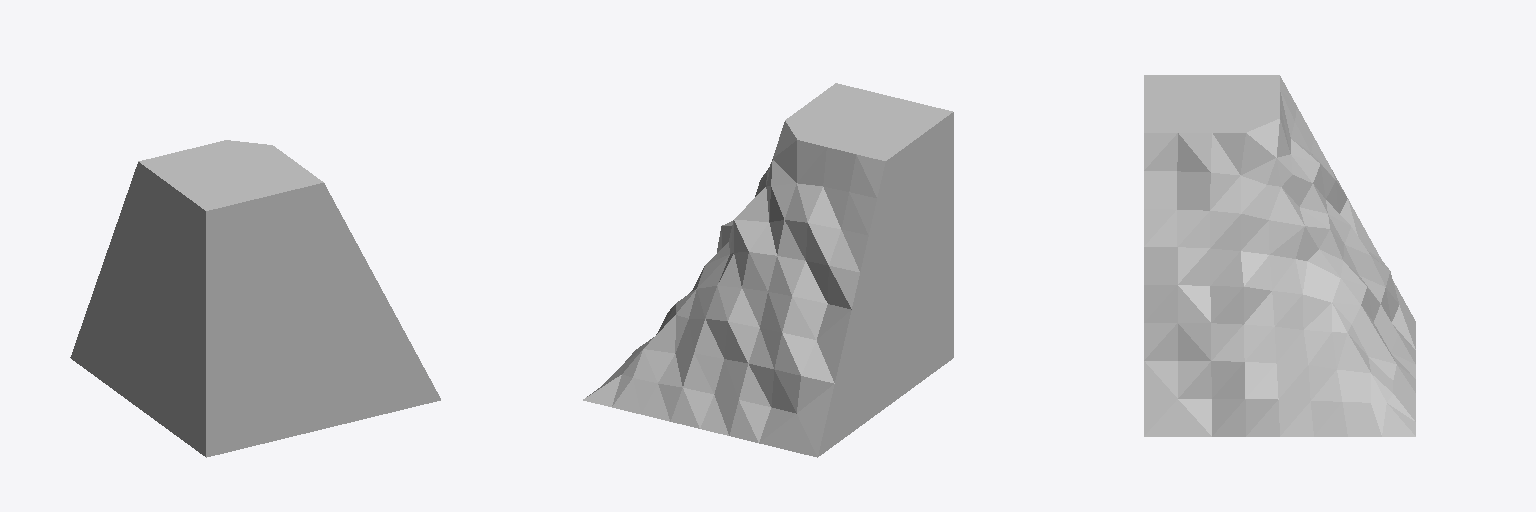
File: single_edge_270.obj
3 renders of one model, left to right at view 1: azimuth 30°, elevation 25°; view 2: azimuth 150°, elevation 25°; view 3: azimuth 270°, elevation 25°, orthographic.
Visible parts, largest first — view 1: Cube.001_Cube.005; view 2: Cube.001_Cube.005; view 3: Cube.001_Cube.005.
Boxes of the visible parts, x1=… form: Cube.001_Cube.005: x1=70, y1=140, x2=440, y2=457; Cube.001_Cube.005: x1=583, y1=83, x2=953, y2=457; Cube.001_Cube.005: x1=1144, y1=75, x2=1415, y2=436.
Bounding box in the file's own units: 1 × 1 × 1.